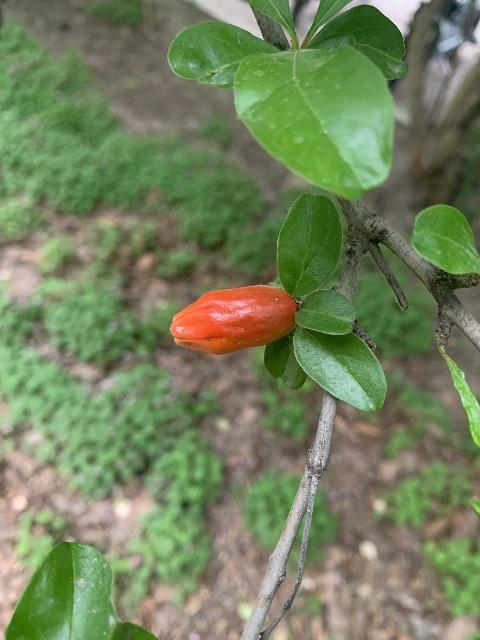bud: (170, 284, 297, 355)
